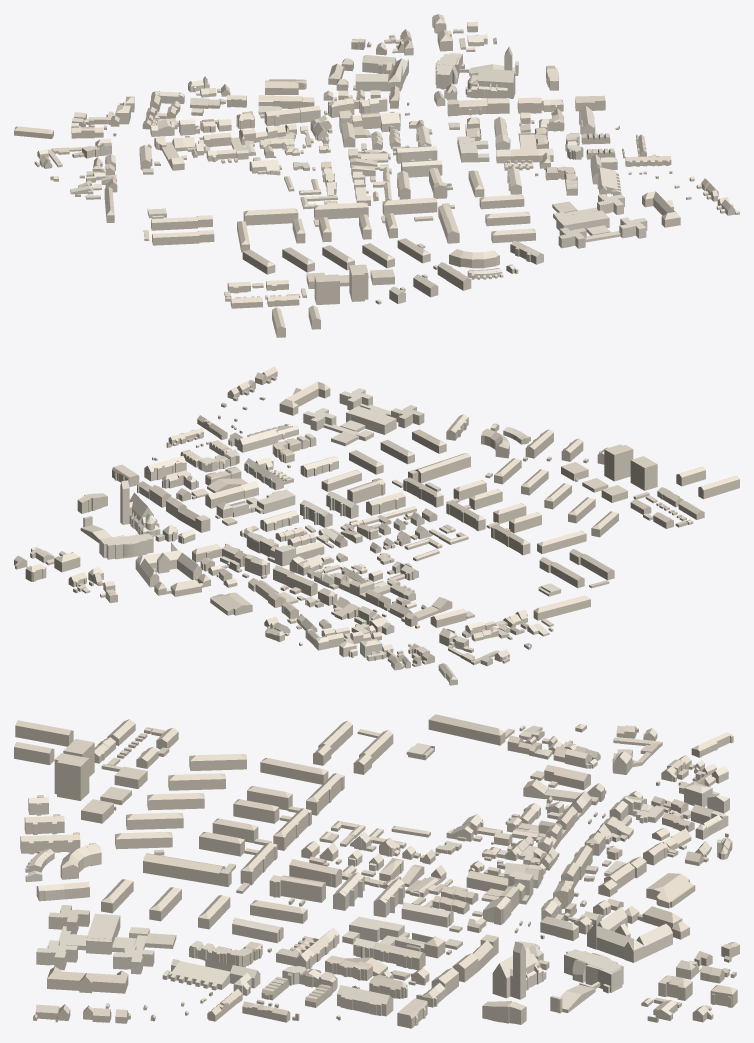
3 views of the same model, one above another, from view 1: azimuth 30°, elevation 25°; view 2: azimuth 150°, elevation 25°; view 3: azimuth 270°, elevation 25° (orthographic). The views are drawn at different scales.
Size of the model in its own units: 635 by 57.18 by 631.
